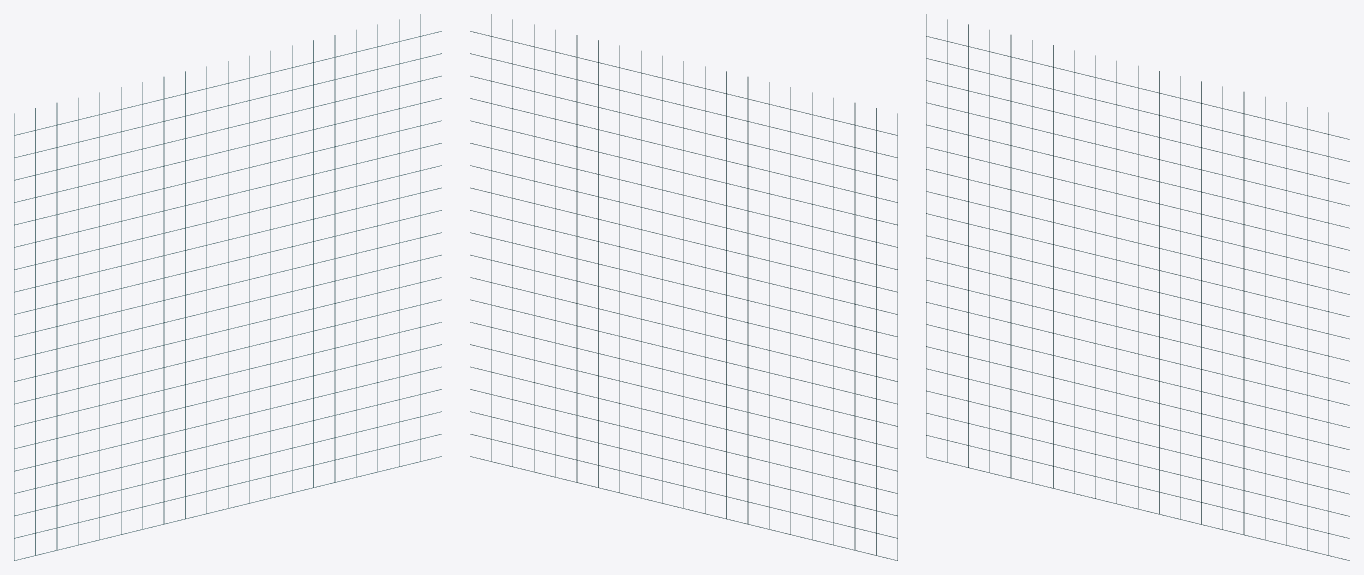
Rendered from gridding.glb.
The picture shows the model from 3 angles, left to right: view 1: azimuth 30°, elevation 25°; view 2: azimuth 150°, elevation 25°; view 3: azimuth 330°, elevation 25°; orthographic projection.
Parts seen in each view (by area): view 1: Plane.027, Plane.022, Plane.030; view 2: Plane.030, Plane.022, Plane.027; view 3: Plane.029, Plane.030.
Part boxes in pixels (box(x1,y1,x2,y2)): Plane.027: box(56, 103, 57, 549); Plane.022: box(163, 77, 164, 523); Plane.030: box(334, 35, 335, 481); Plane.030: box(576, 35, 577, 481); Plane.022: box(747, 77, 748, 523); Plane.027: box(854, 103, 855, 549); Plane.029: box(1010, 35, 1011, 477); Plane.030: box(1243, 92, 1244, 534).
Size of the model in its own units: 2 by 2 by 5.97e-08.
